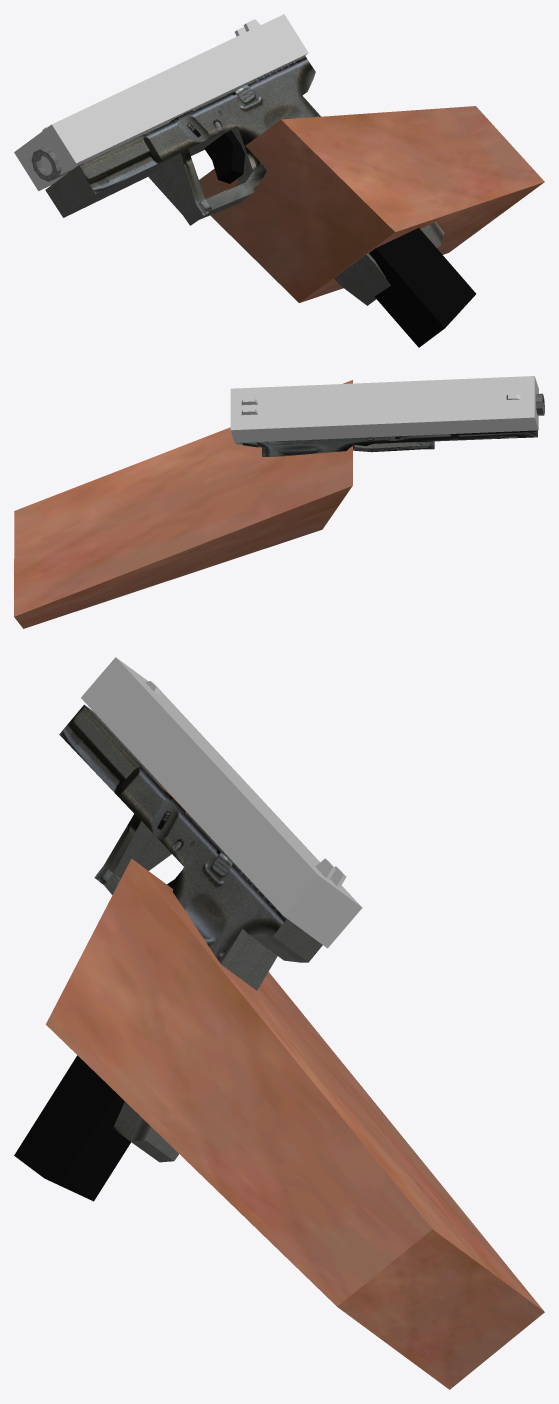
Rendered from pistol_000023.obj.
3 renders of one model, top to bottom at view 1: azimuth 30°, elevation 25°; view 2: azimuth 150°, elevation 25°; view 3: azimuth 270°, elevation 25°, orthographic. The views are drawn at different scales.
Visible parts, largest first — view 1: Cube, Cube.001, Cube.002, Cube.003; view 2: Cube, Cube.001; view 3: Cube, Cube.001, Cube.002.
Part boxes in pixels (x1,y1,x2,y2): Cube: [31, 56, 544, 305]; Cube.001: [14, 14, 308, 191]; Cube.002: [369, 228, 475, 347]; Cube.003: [204, 130, 245, 183]; Cube: [14, 380, 544, 628]; Cube.001: [230, 376, 538, 442]; Cube: [46, 704, 544, 1389]; Cube.001: [81, 657, 362, 948]; Cube.002: [14, 1055, 130, 1201].
Bounding box in the file's own units: 1.68 × 0.9648 × 1.09.
